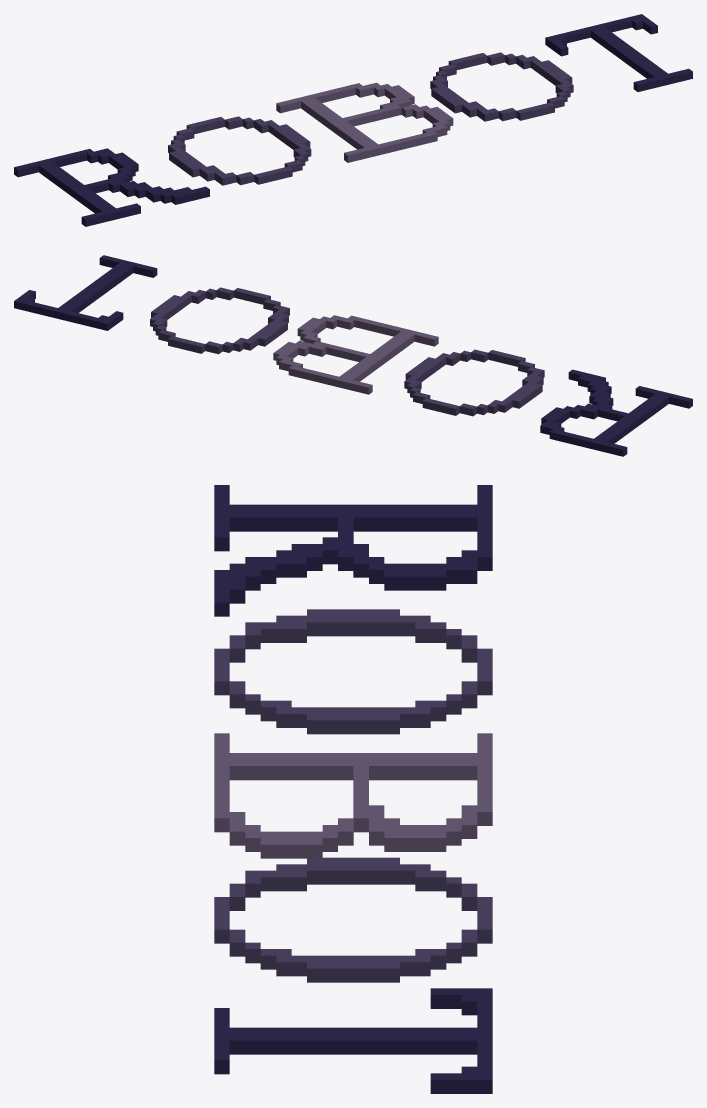
File: robot.obj
3 renders of one model, top to bottom at view 1: azimuth 30°, elevation 25°; view 2: azimuth 150°, elevation 25°; view 3: azimuth 270°, elevation 25°, orthographic. The views are drawn at different scales.
Visible parts, largest first — view 1: ROBOT; view 2: ROBOT; view 3: ROBOT.
Part boxes in pixels (box(x1,y1,x2,y2)): ROBOT: box(14, 14, 692, 226); ROBOT: box(14, 255, 692, 456); ROBOT: box(214, 485, 492, 1093).
Bounding box in the file's own units: 9.1 × 0.1 × 1.8.
1 material, 1 textured.
